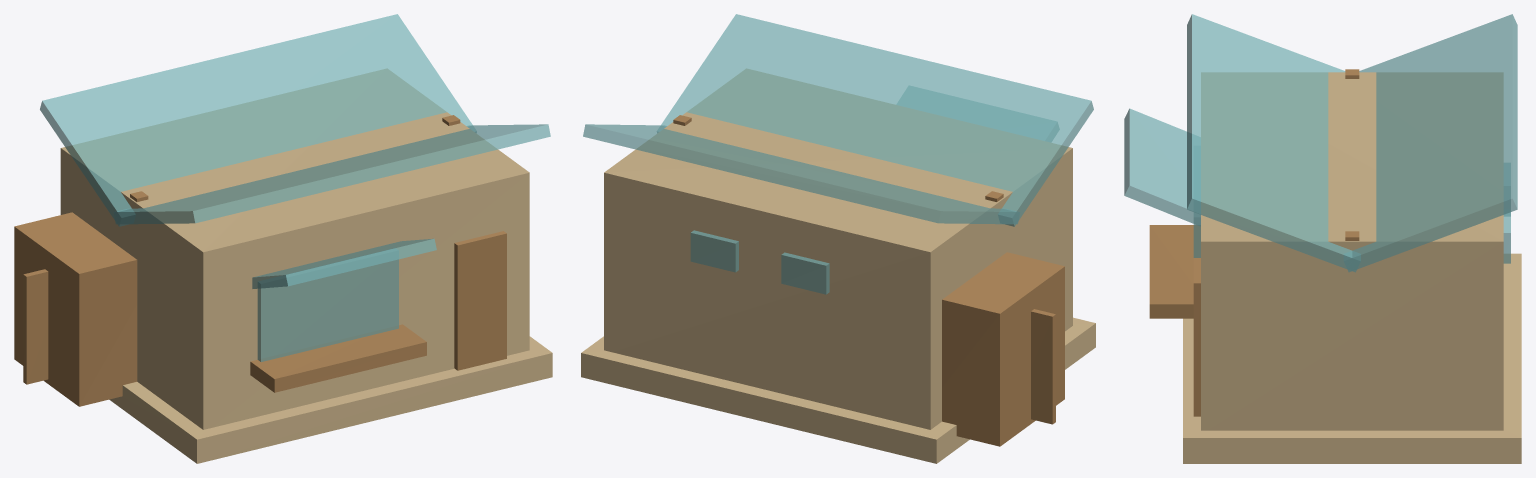
File: Trading-Post.glb
3 views of the same model, side by side, from view 1: azimuth 30°, elevation 25°; view 2: azimuth 150°, elevation 25°; view 3: azimuth 270°, elevation 25° (orthographic). The views are drawn at different scales.
Parts seen in each view (by area): view 1: trading-post-static-trading-post-cream-boards, trading-post-static-trading-post-charcoal-roof-shutter-glass, trading-post-static-trading-post-warm-timber, trading-post-static-trading-post-pale-stone, trading-post-static-trading-post-muted-teal-doors; view 2: trading-post-static-trading-post-cream-boards, trading-post-static-trading-post-charcoal-roof-shutter-glass, trading-post-static-trading-post-warm-timber, trading-post-static-trading-post-pale-stone, trading-post-static-trading-post-muted-teal-doors; view 3: trading-post-static-trading-post-cream-boards, trading-post-static-trading-post-charcoal-roof-shutter-glass, trading-post-static-trading-post-pale-stone, trading-post-static-trading-post-warm-timber, trading-post-static-trading-post-muted-teal-doors.
Boxes of the visible parts, left/top/right/bottom form: trading-post-static-trading-post-cream-boards: left=60, top=68, right=529, bottom=429; trading-post-static-trading-post-charcoal-roof-shutter-glass: left=40, top=14, right=550, bottom=361; trading-post-static-trading-post-warm-timber: left=14, top=115, right=460, bottom=406; trading-post-static-trading-post-pale-stone: left=109, top=336, right=552, bottom=463; trading-post-static-trading-post-muted-teal-doors: left=23, top=231, right=506, bottom=384; trading-post-static-trading-post-cream-boards: left=604, top=68, right=1072, bottom=429; trading-post-static-trading-post-charcoal-roof-shutter-glass: left=583, top=14, right=1093, bottom=294; trading-post-static-trading-post-warm-timber: left=673, top=115, right=1064, bottom=446; trading-post-static-trading-post-pale-stone: left=581, top=317, right=1095, bottom=463; trading-post-static-trading-post-muted-teal-doors: left=1031, top=309, right=1055, bottom=424; trading-post-static-trading-post-cream-boards: left=1201, top=72, right=1503, bottom=430; trading-post-static-trading-post-charcoal-roof-shutter-glass: left=1124, top=14, right=1517, bottom=272; trading-post-static-trading-post-pale-stone: left=1183, top=253, right=1521, bottom=463; trading-post-static-trading-post-warm-timber: left=1149, top=69, right=1359, bottom=318; trading-post-static-trading-post-muted-teal-doors: left=1193, top=258, right=1200, bottom=416.
Bounding box in the file's own units: 5.8 × 3.29 × 4.46.
